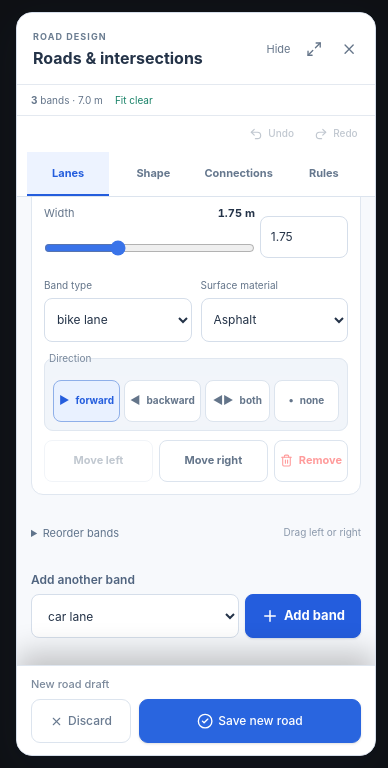
<RoadEditorPanel /> › offers draggable band ordering in a compact disclosure
(page scrolled)
Click the heading "Reorder bands Drag left or right".
click(81, 532)  # box [43, 526, 361, 540]
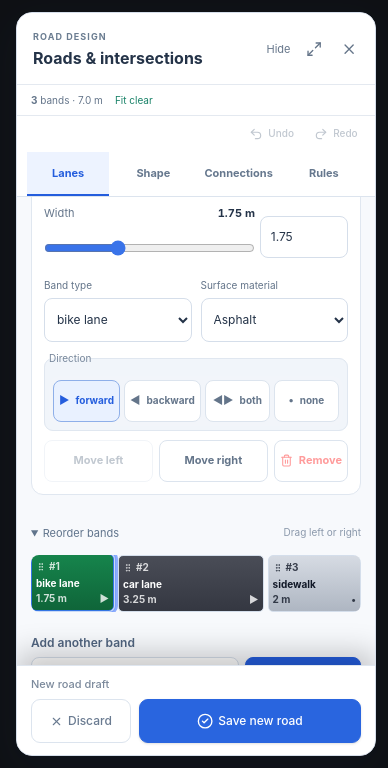
Expected: the element with test id "road-band-order-strip" is shown, [31, 555, 361, 612]
Expected: the button with test id "road-band-box-0" shows "bike lane", [31, 555, 114, 611]
Expected: the button with test id "road-band-box-1" shows "car lane", [118, 555, 264, 612]
